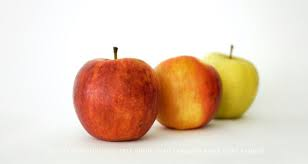apel: (70, 53, 160, 144), (151, 54, 225, 138), (200, 49, 264, 122)
